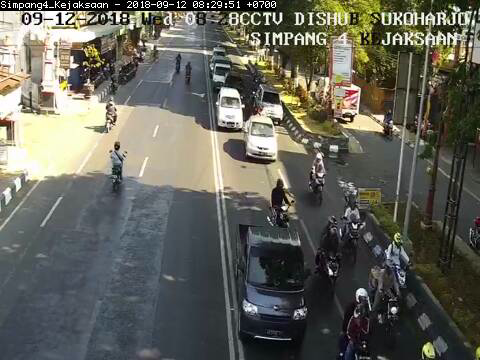motor: (368, 248, 402, 348), (340, 288, 376, 360), (314, 214, 343, 298), (341, 189, 365, 265), (386, 231, 410, 295), (307, 147, 329, 208), (268, 178, 291, 228)
